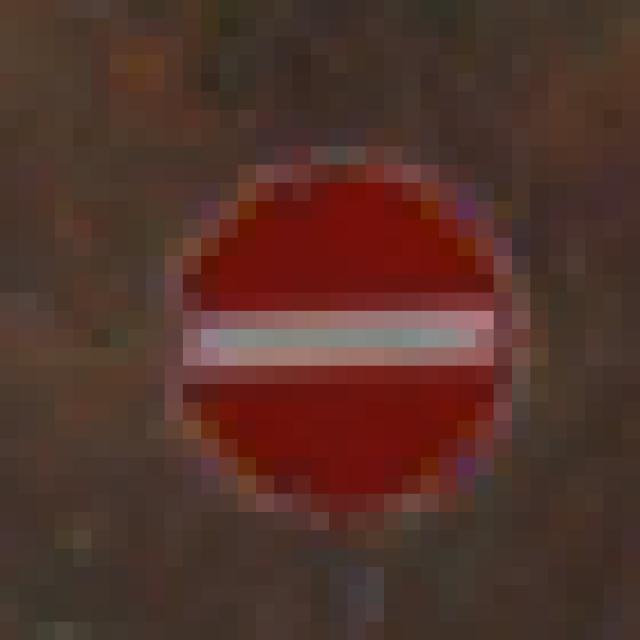No Entry: (93, 93, 532, 550)
